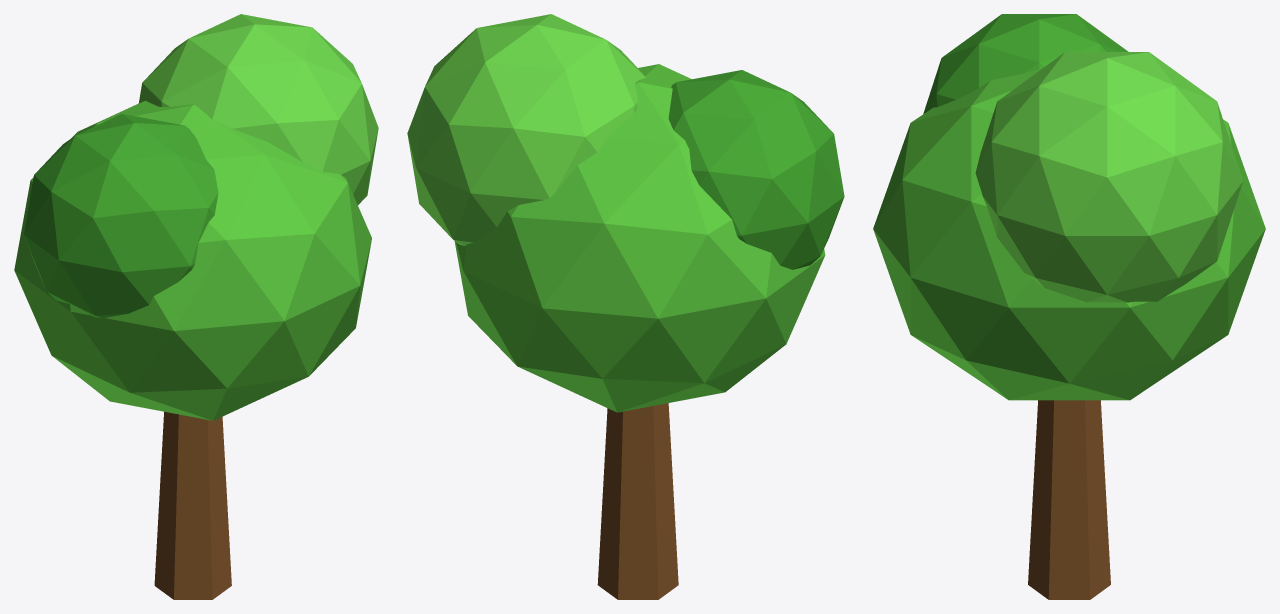
Rendered from tree_round.fbx.
3 views of the same model, side by side, from view 1: azimuth 30°, elevation 25°; view 2: azimuth 150°, elevation 25°; view 3: azimuth 270°, elevation 25° (orthographic). The views are drawn at different scales.
Parts seen in each view (by area): view 1: Icosphere, Icosphere.002, Icosphere.001, Cone; view 2: Icosphere, Icosphere.001, Icosphere.002, Cone; view 3: Icosphere, Icosphere.001, Cone, Icosphere.002.
Boxes of the visible parts, left/top/right/bottom form: Icosphere: left=14, top=100, right=371, bottom=420; Icosphere.002: left=24, top=114, right=218, bottom=318; Icosphere.001: left=138, top=14, right=378, bottom=204; Cone: left=154, top=411, right=231, bottom=599; Icosphere: left=454, top=64, right=825, bottom=412; Icosphere.001: left=407, top=14, right=645, bottom=245; Icosphere.002: left=668, top=70, right=844, bottom=269; Cone: left=597, top=403, right=678, bottom=599; Icosphere: left=873, top=67, right=1265, bottom=400; Icosphere.001: left=975, top=52, right=1243, bottom=302; Cone: left=1028, top=400, right=1110, bottom=599; Icosphere.002: left=923, top=14, right=1128, bottom=113.
Size of the model in its own units: 5.73 by 8.3 by 5.2.
